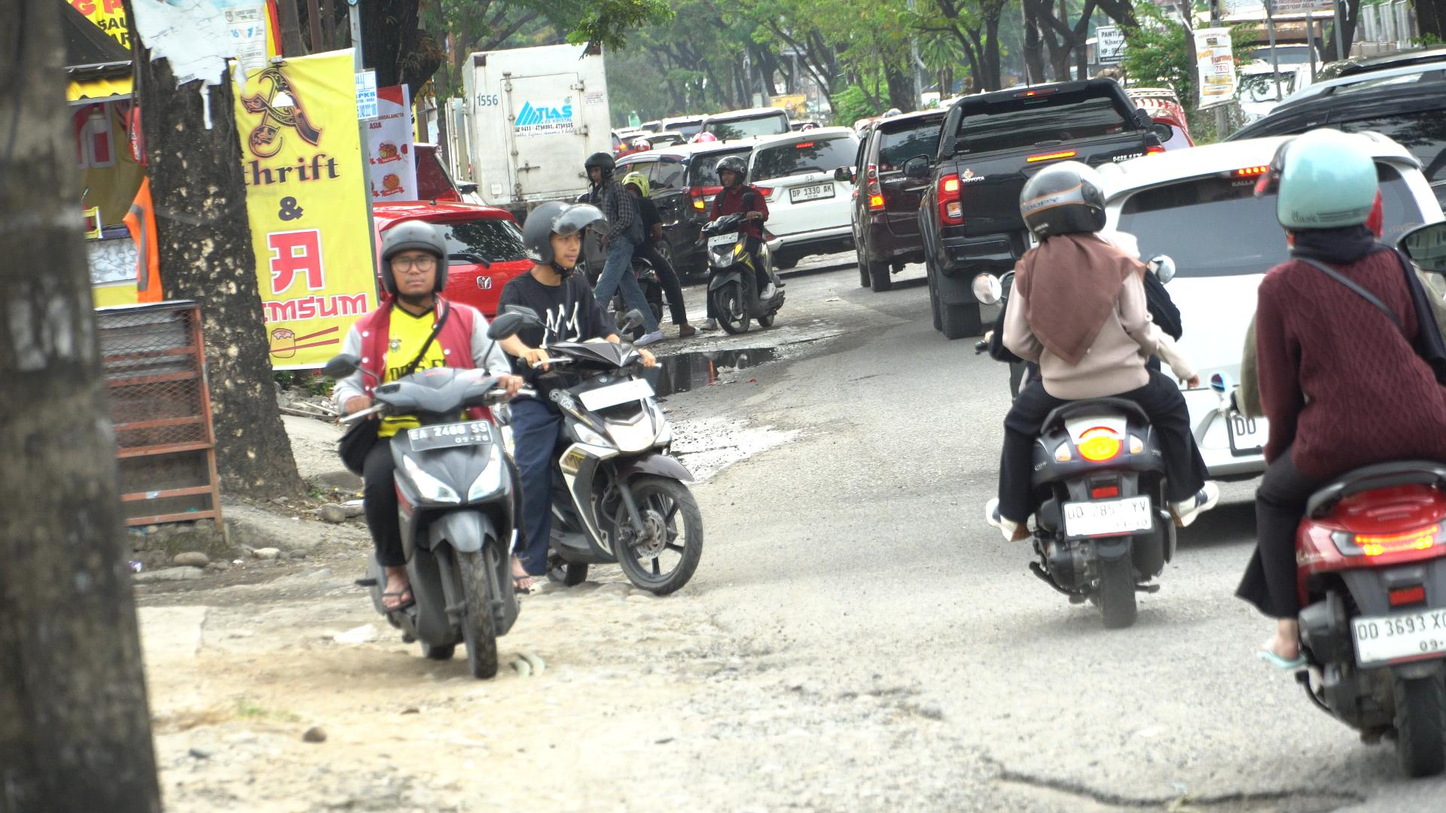number-plate: (404, 415, 495, 452)
